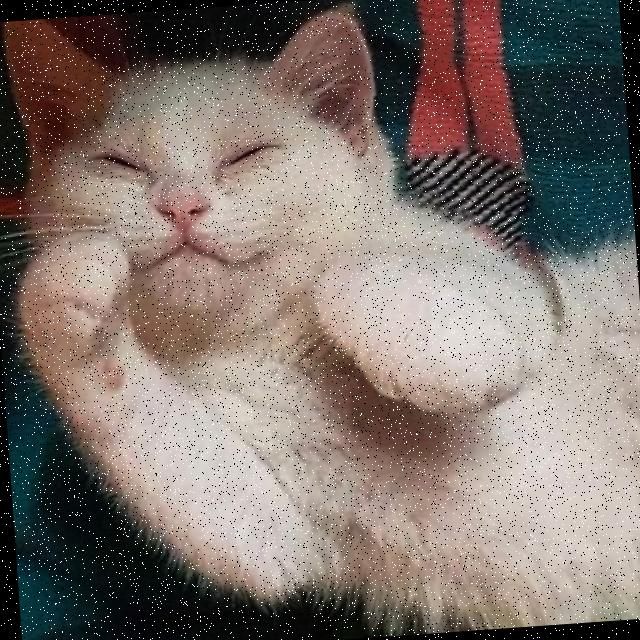Happy: (35, 78, 350, 341)
